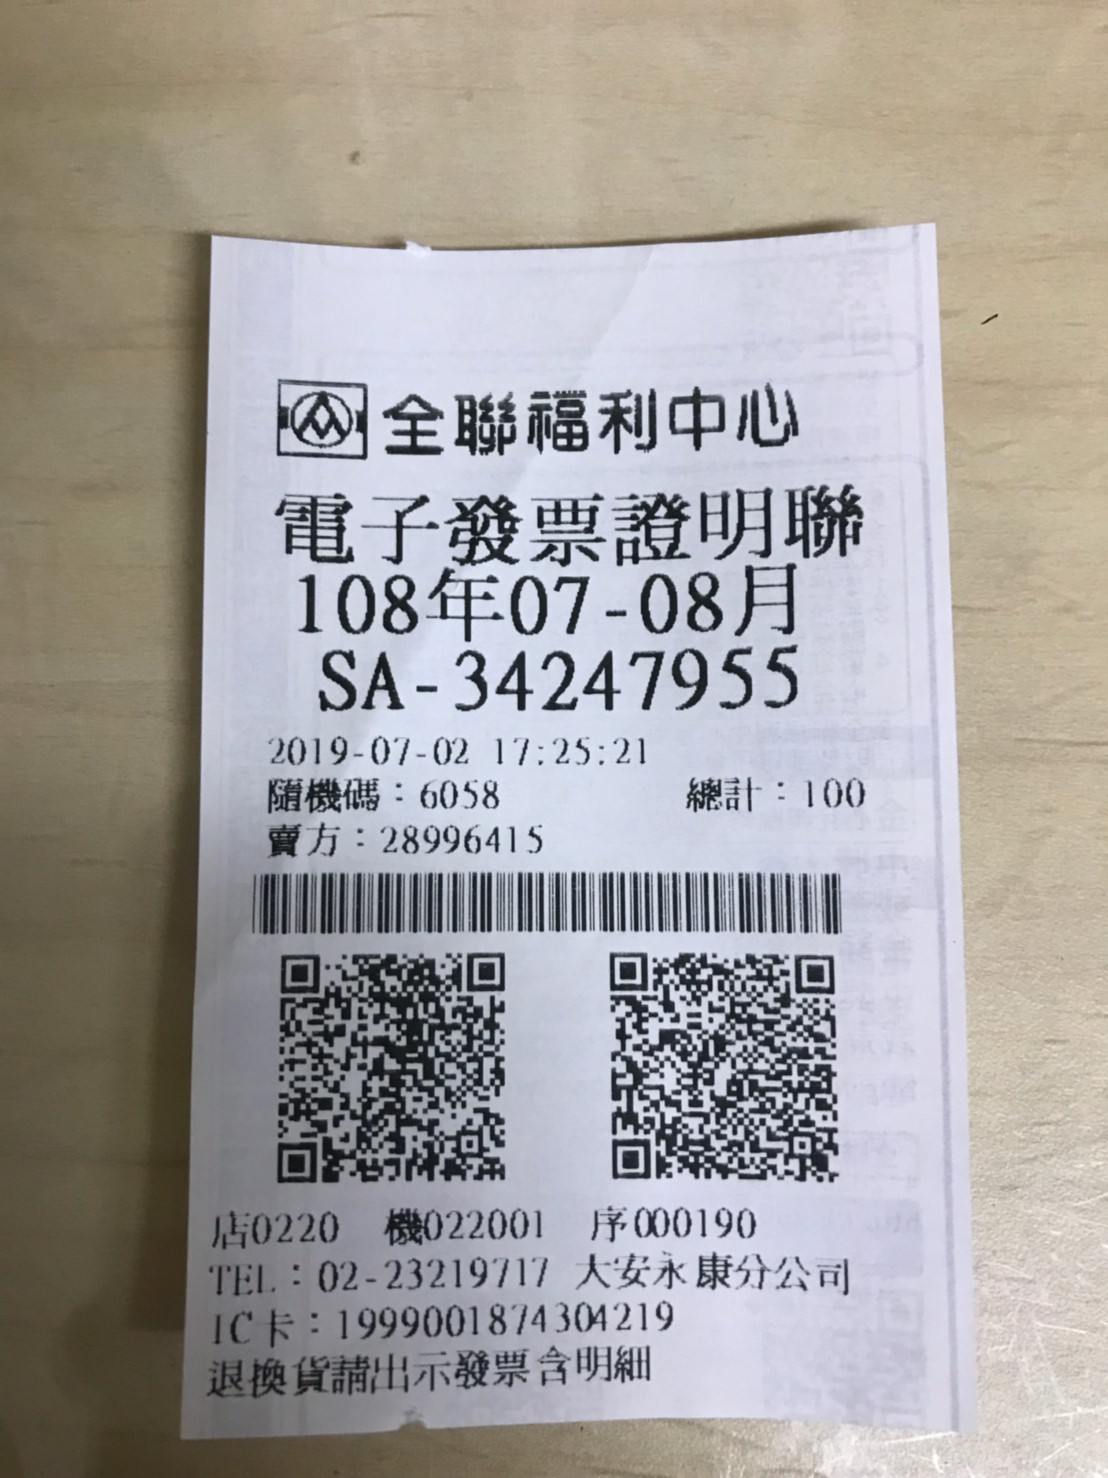Date_New: (294, 562, 800, 638)
Number_New: (452, 644, 800, 713)
